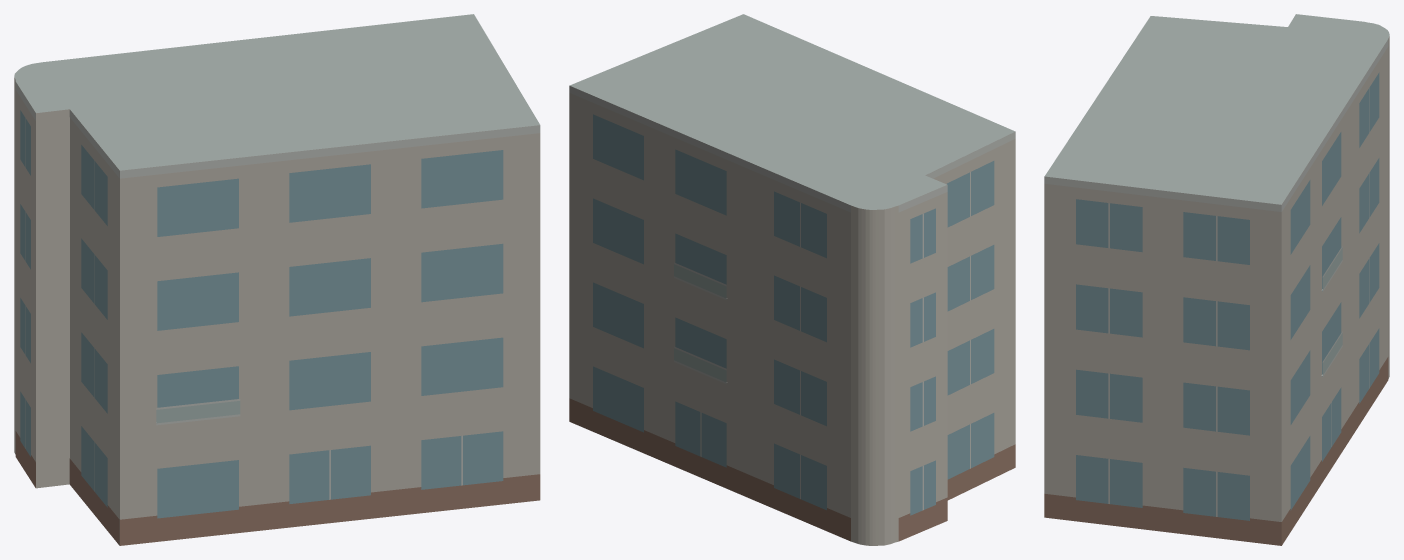
The model's file is survey-upis-32646808.glb.
The picture shows the model from 3 angles, left to right: view 1: azimuth 30°, elevation 25°; view 2: azimuth 150°, elevation 25°; view 3: azimuth 270°, elevation 25°; orthographic projection. The views are drawn at different scales.
Visible parts, largest first — view 1: survey-upis-32646808.tmp; view 2: survey-upis-32646808.tmp; view 3: survey-upis-32646808.tmp.
Part boxes in pixels (x1,y1,x2,y2): survey-upis-32646808.tmp: (14,14,540,545); survey-upis-32646808.tmp: (569,14,1015,545); survey-upis-32646808.tmp: (1044,14,1389,545).
Bounding box in the file's own units: 13.81 × 11.5 × 10.56.
